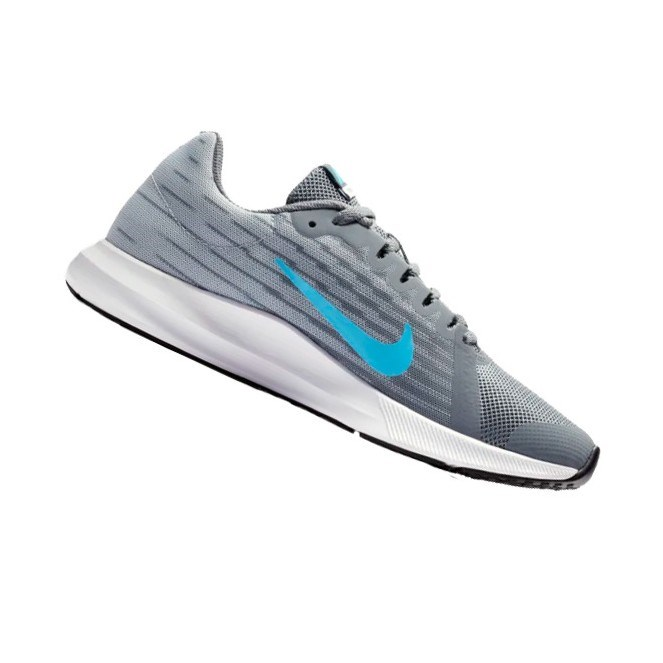nike: (270, 255, 423, 379)
